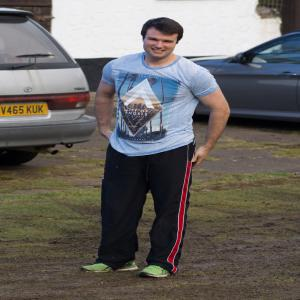Vehicle-registration-plate: (1, 104, 49, 117)
